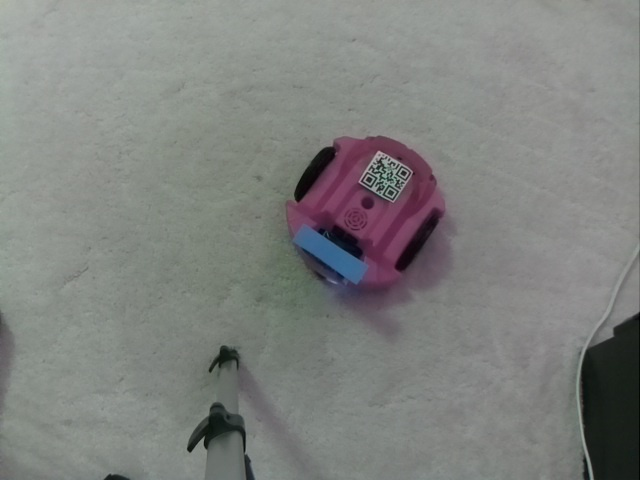chassis: (283, 129, 458, 288)
qr: (356, 151, 415, 202)
